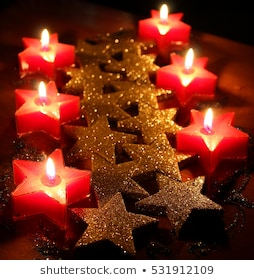Fire: (181, 45, 199, 70), (201, 108, 214, 134), (44, 156, 57, 179), (159, 2, 171, 23), (36, 82, 49, 101), (39, 27, 49, 49)
